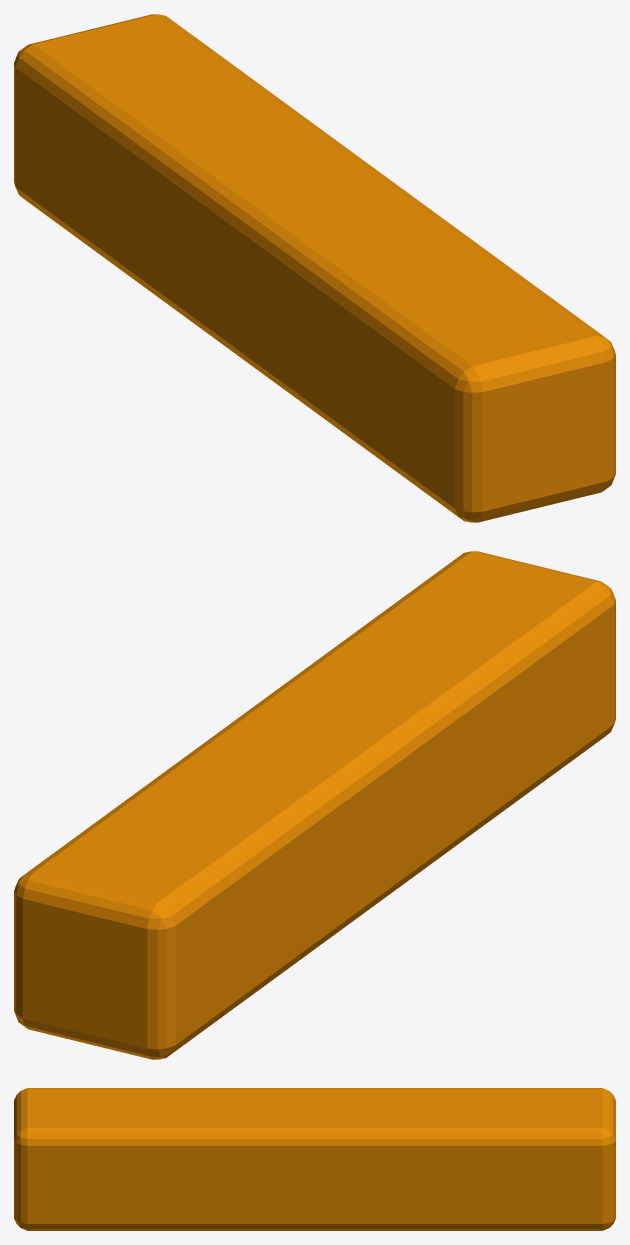
Rendered from bigPlaform.fbx.
The picture shows the model from 3 angles, top to bottom: view 1: azimuth 30°, elevation 25°; view 2: azimuth 150°, elevation 25°; view 3: azimuth 270°, elevation 25°; orthographic projection. The views are drawn at different scales.
Parts seen in each view (by area): view 1: Cube; view 2: Cube; view 3: Cube.
Boxes of the visible parts, x1=… form: Cube: x1=14, y1=14, x2=615, y2=522; Cube: x1=14, y1=551, x2=615, y2=1059; Cube: x1=14, y1=1088, x2=615, y2=1230.
Bounding box in the file's own units: 593 × 556 × 2957.
